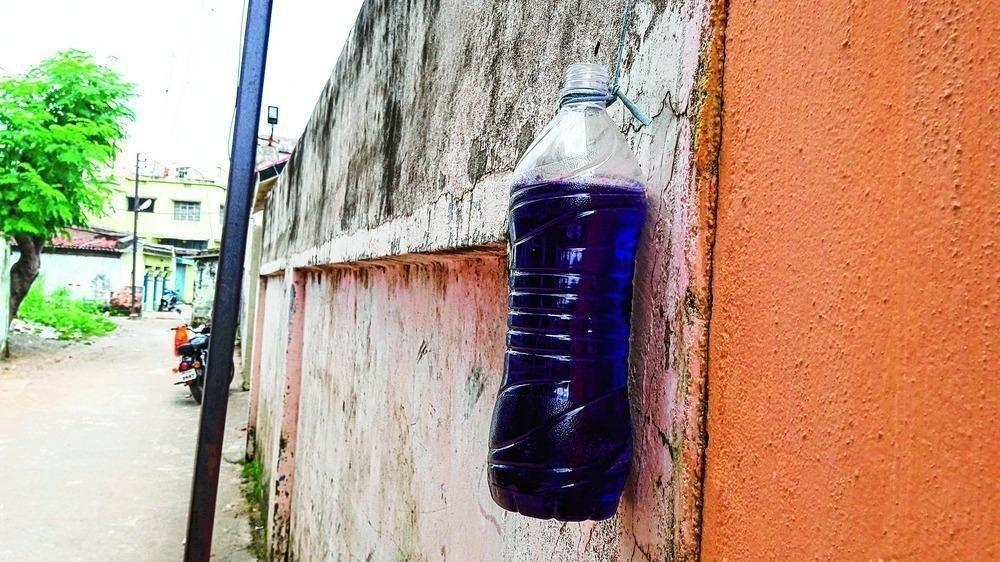bottle-plastic: (486, 57, 651, 526)
